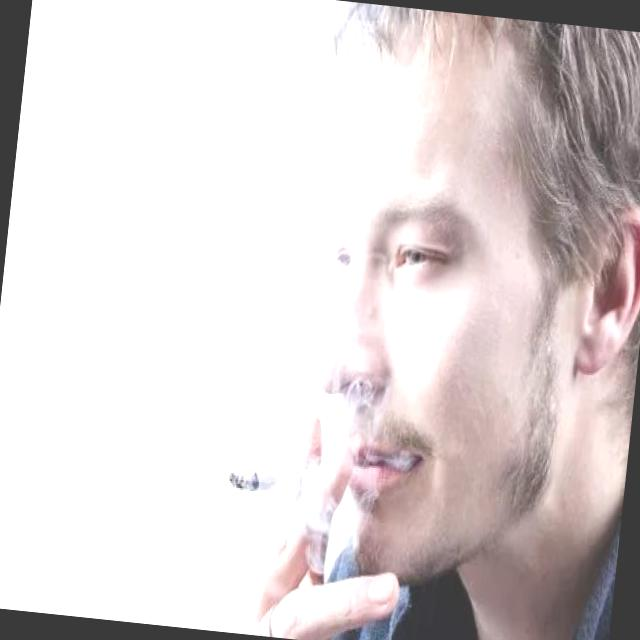smoke: (222, 456, 296, 499)
